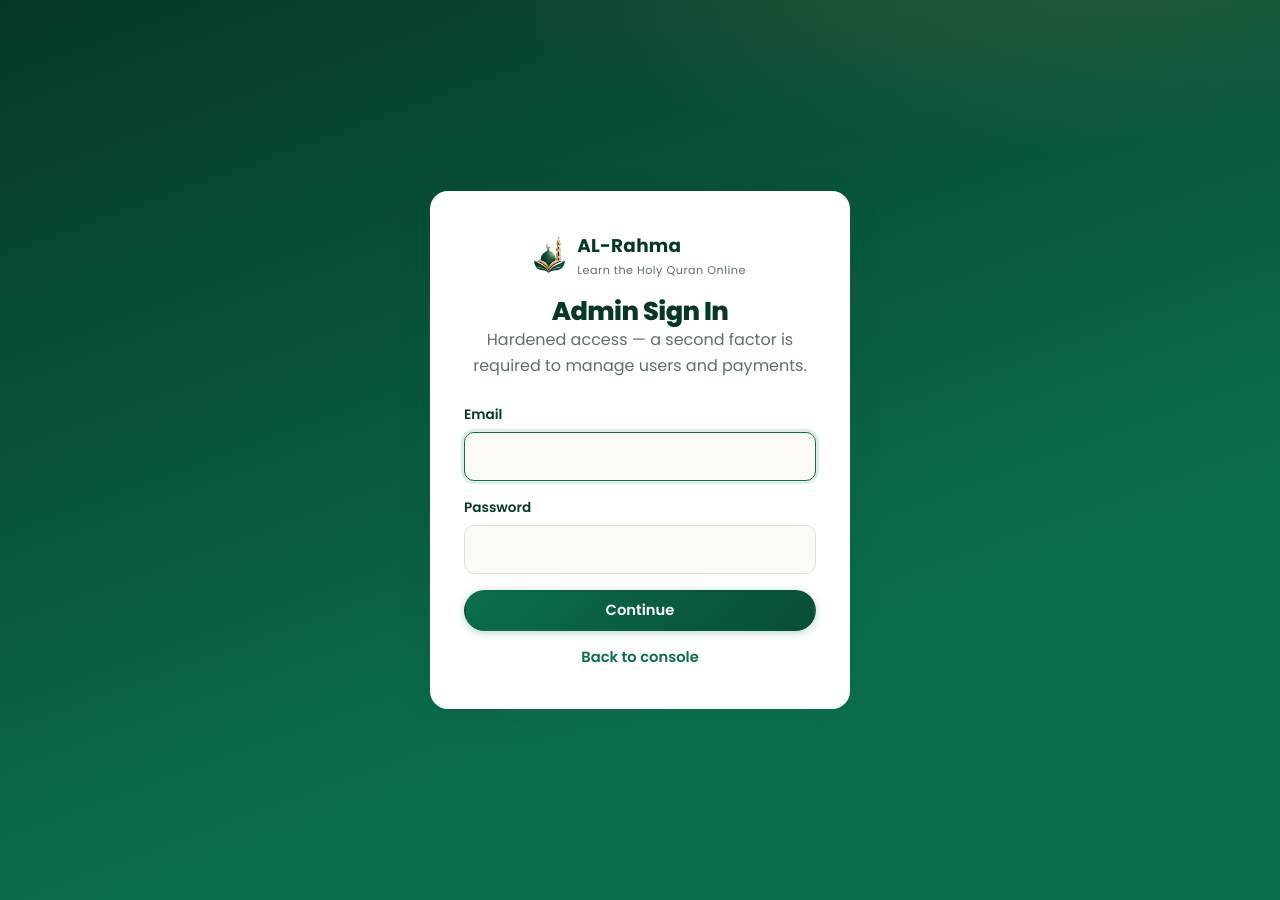
Test case: AdminLogin › failed login: a network error with no response body falls back to a generic message
Type "jane@example.com" into the field labelled "Email" at (640, 456), box [464,432,816,481]
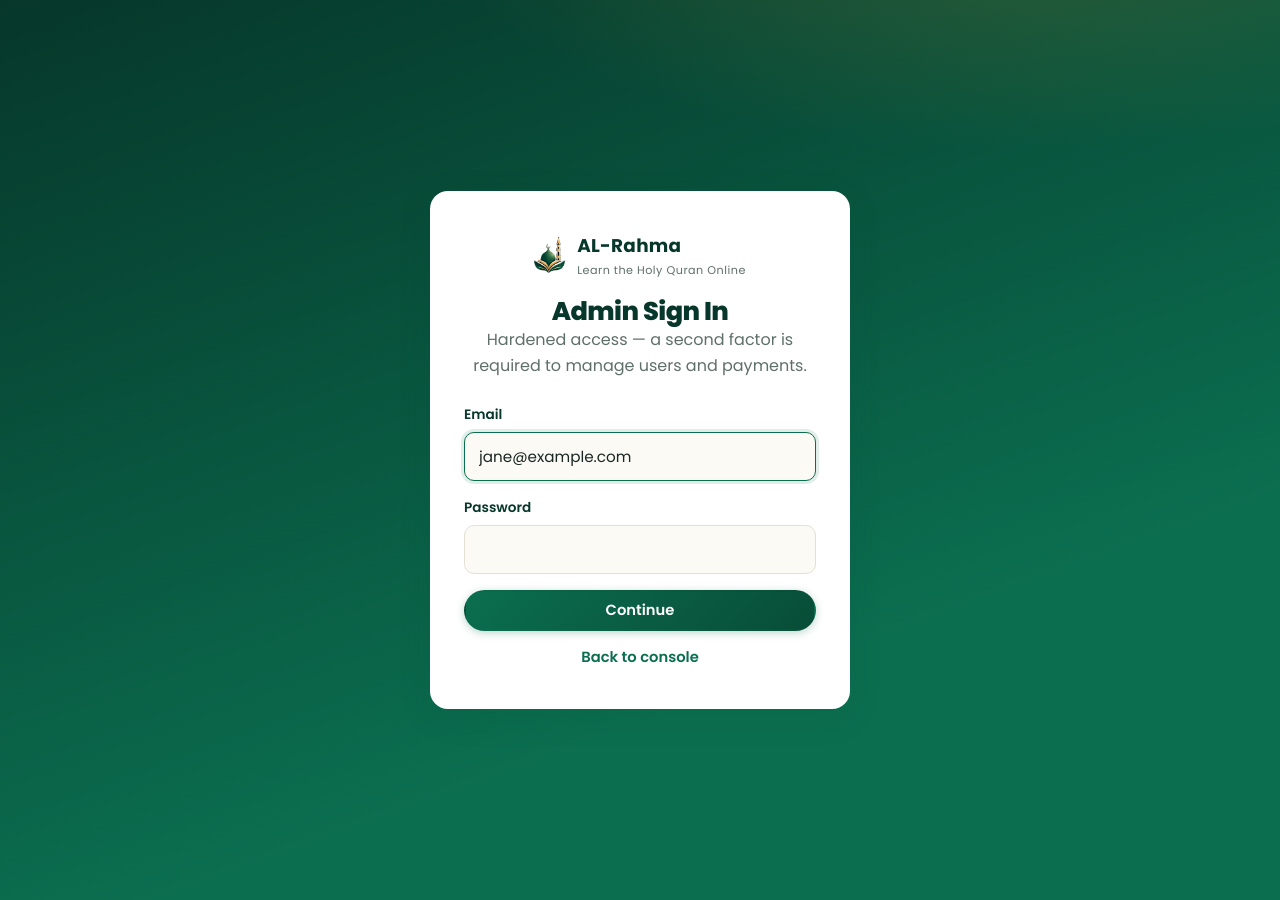
Type "wrong-password" into the password field labelled "Password" at (640, 550), box [464,525,816,574]
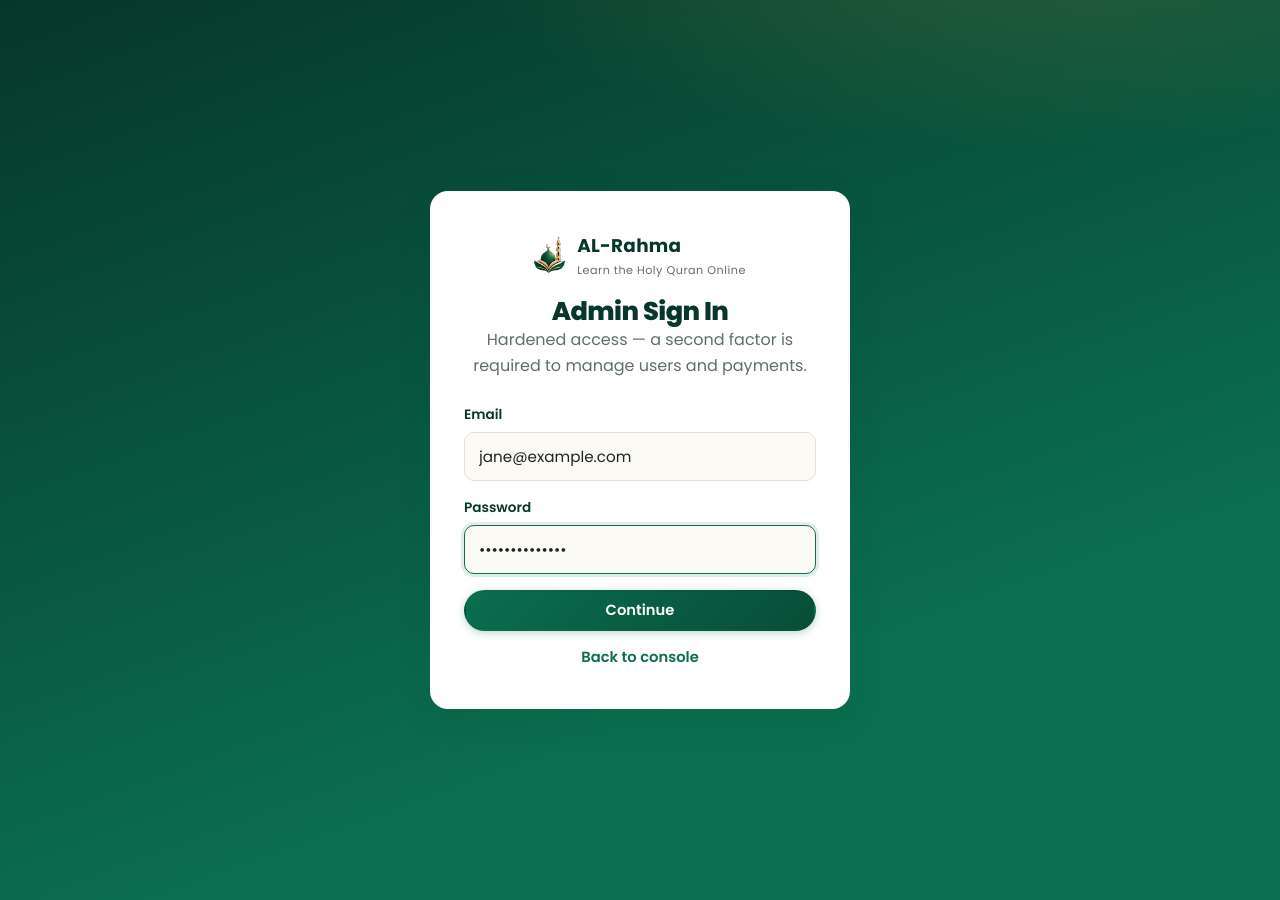
Click the button "Continue" at (640, 611), box [464,590,816,631]
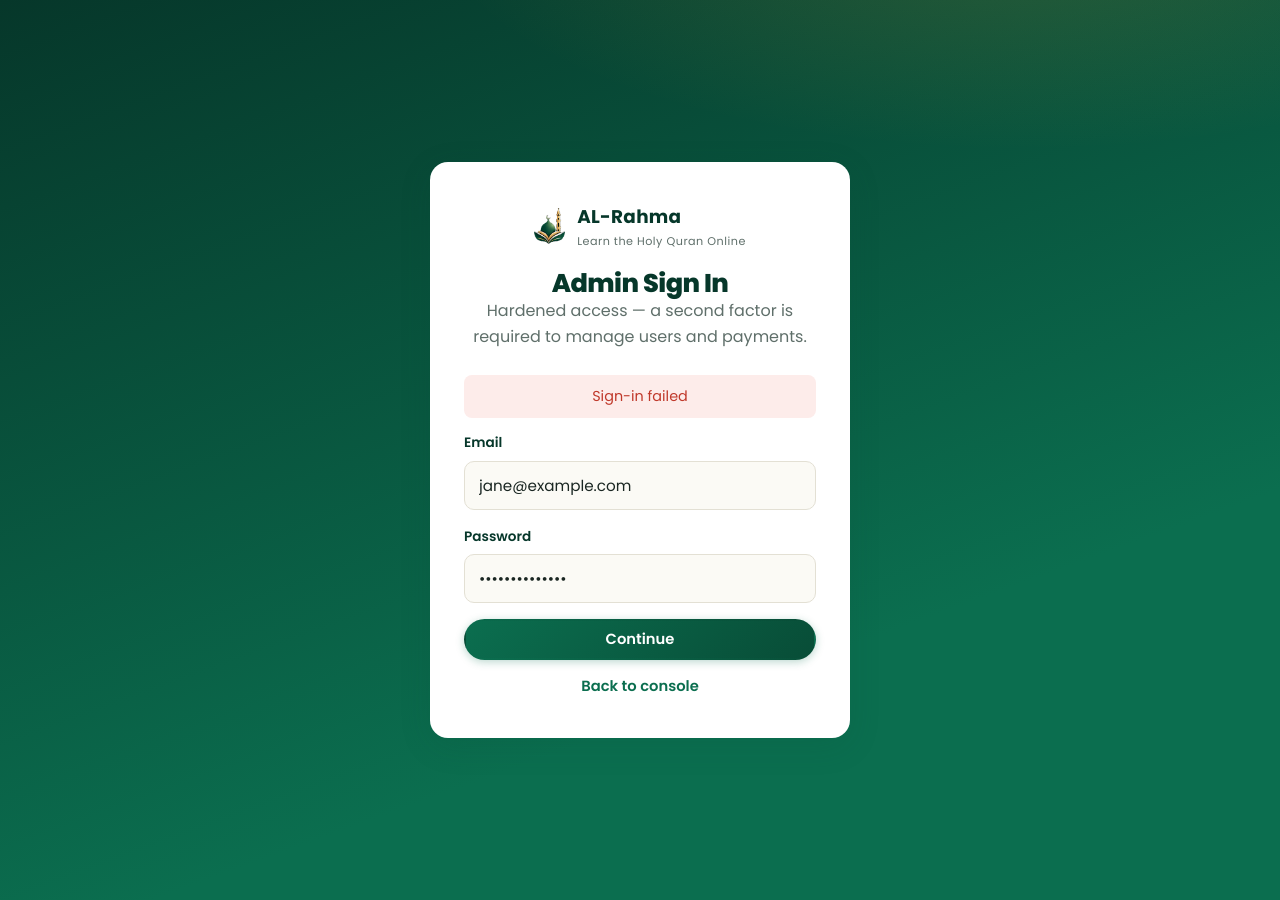
expect the message reads "Sign-in failed": met, box [592,386,688,406]
